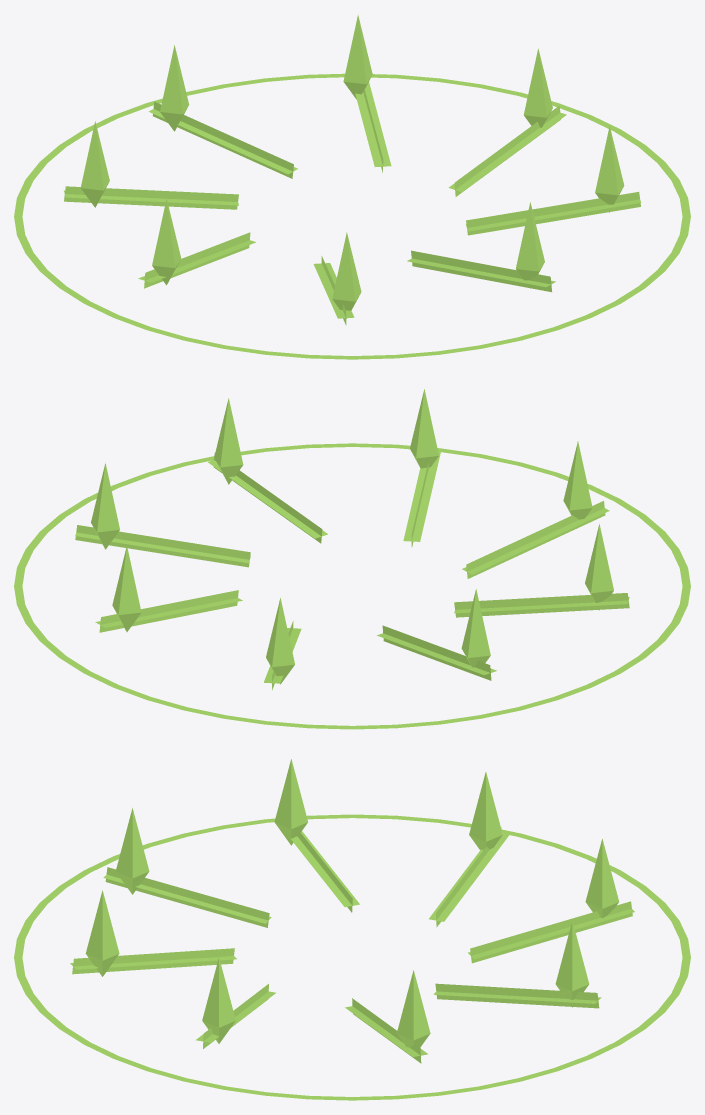
Rendered from ranger.glb.
3 views of the same model, one above another, from view 1: azimuth 30°, elevation 25°; view 2: azimuth 150°, elevation 25°; view 3: azimuth 270°, elevation 25° (orthographic).
Visible parts, largest first — view 1: ranger_ultimate; view 2: ranger_ultimate; view 3: ranger_ultimate.
Boxes of the visible parts, x1,y1,x2,y2 form: ranger_ultimate: (14, 15, 690, 359); ranger_ultimate: (14, 389, 690, 729); ranger_ultimate: (14, 759, 690, 1100).
Size of the model in its own units: 2 by 0.3248 by 2.
